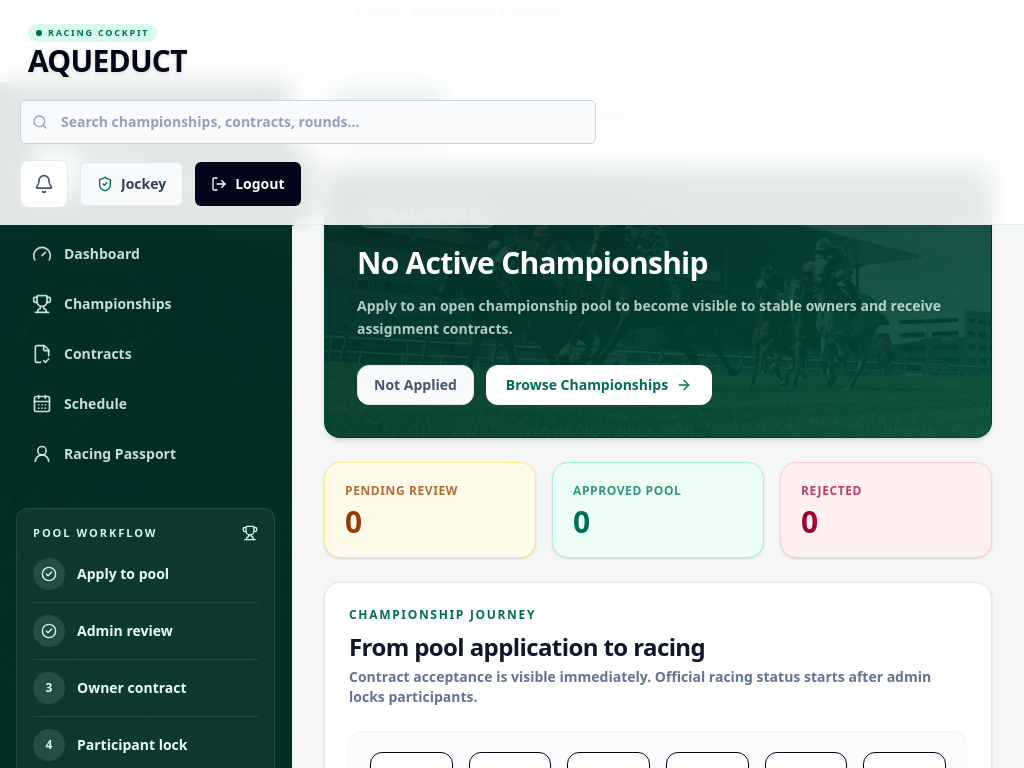
Test case: JockeyChampionshipsPage › shows a truth-first empty current state instead of fake standings
(page scrolled)
expect the heading "No Active Championship" is shown: met, box [357,242,708,282]
expect the text "Apply to an open championship pool" is shown: met, box [357,296,941,338]
Click the button "Browse Championships". click: point(599, 384)
box: [486,364,712,404]
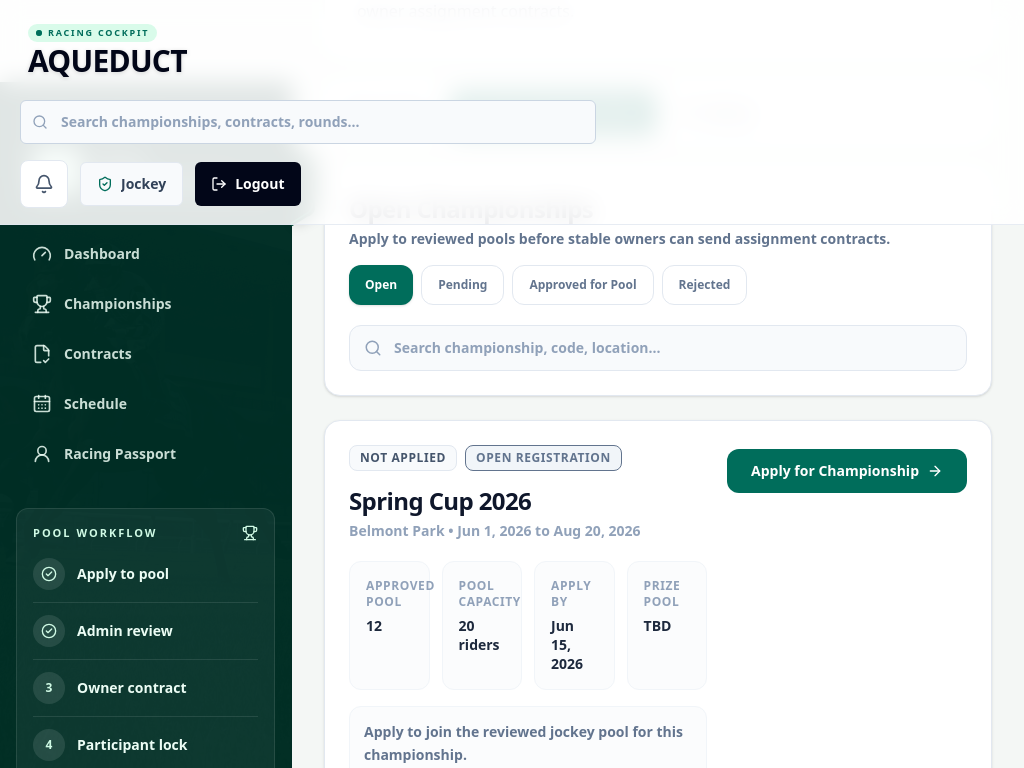
expect the heading "Spring Cup 2026" is shown: met, box [349,484,531,516]
